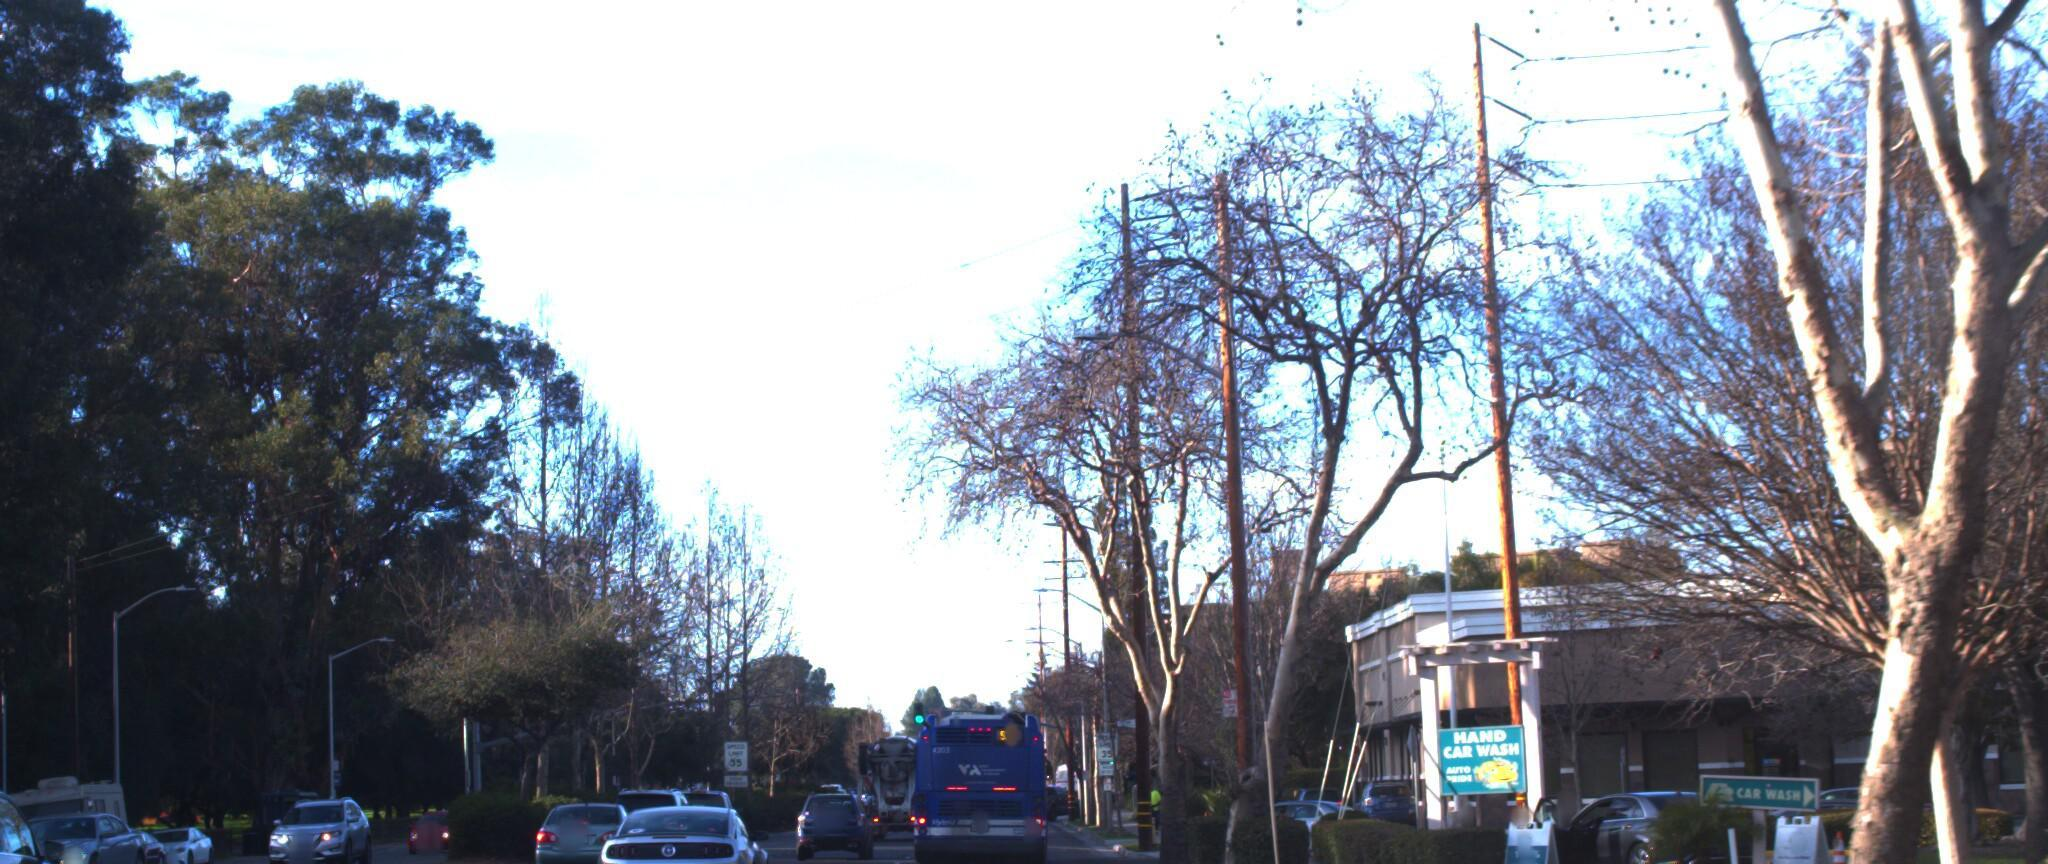bus: (895, 673, 1042, 864)
car: (586, 777, 765, 864), (0, 767, 107, 864), (503, 786, 626, 864), (0, 803, 152, 864), (248, 790, 366, 864), (780, 780, 865, 850)
